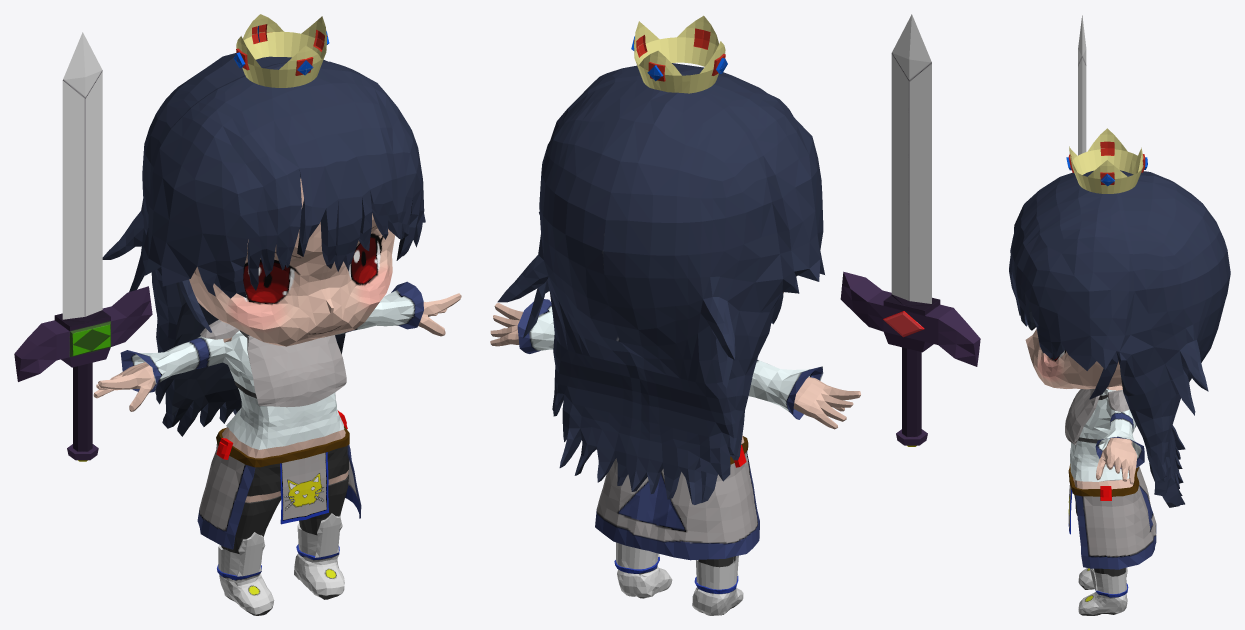
The model's file is knight.fbx.
3 renders of one model, left to right at view 1: azimuth 30°, elevation 25°; view 2: azimuth 150°, elevation 25°; view 3: azimuth 270°, elevation 25°, orthographic. The views are drawn at different scales.
Parts seen in each view (by area): view 1: Character, Character.001; view 2: Character, Character.001; view 3: Character, Character.001.
Boxes of the visible parts, <box> form: Character: <box>93,14,461,615</box>; Character.001: <box>14,32,152,461</box>; Character: <box>490,15,860,615</box>; Character.001: <box>840,14,980,446</box>; Character: <box>1009,128,1230,615</box>; Character.001: <box>1078,15,1086,155</box>.
Size of the model in its own units: 131 by 171 by 68.38.
